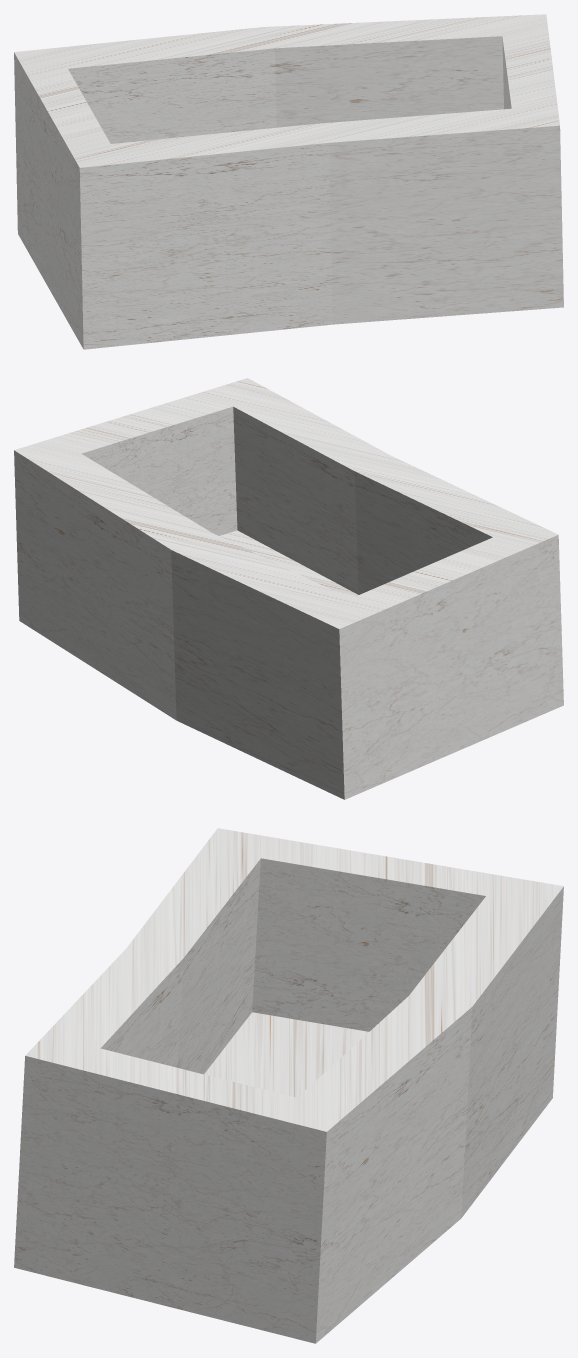
The model's file is Macetero square.fbx.
The picture shows the model from 3 angles, top to bottom: view 1: azimuth 30°, elevation 25°; view 2: azimuth 150°, elevation 25°; view 3: azimuth 270°, elevation 25°; orthographic projection. The views are drawn at different scales.
Parts seen in each view (by area): view 1: pCube7; view 2: pCube7; view 3: pCube7.
Part boxes in pixels (box(x1,y1,x2,y2)): pCube7: box(14, 14, 563, 349); pCube7: box(14, 378, 563, 799); pCube7: box(14, 828, 563, 1343).
Bounding box in the file's own units: 356 × 127 × 277.
